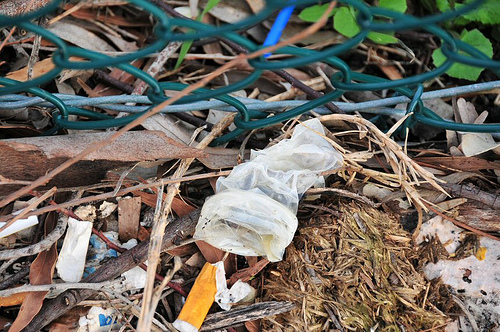litter: (191, 117, 344, 259), (171, 261, 222, 332), (55, 216, 93, 283)
